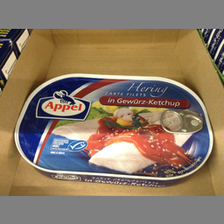fish: (14, 73, 213, 187)
